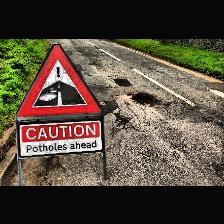pothole: (130, 91, 158, 105)
